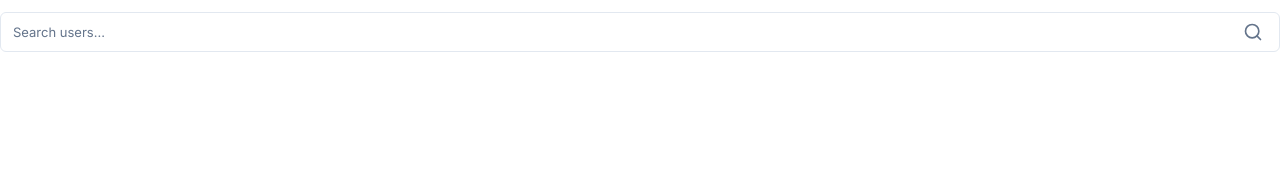
Test: UserLookup › matches every word across a user's name and profile
Type "user sales" into the dropdown named "New Owner" at point(622, 32), box [13, 14, 1231, 50]
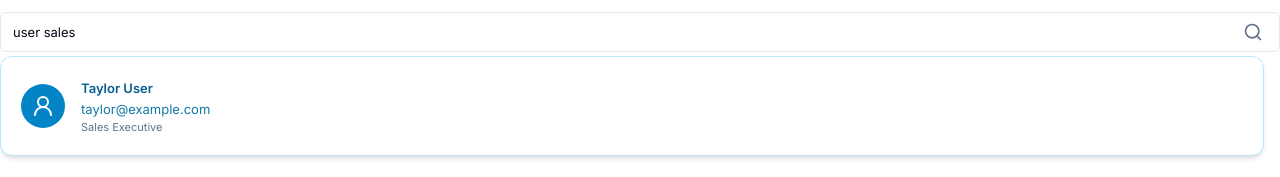
Now the option "Taylor User taylor@example.com Sales Executive" is shown, box [9, 65, 1255, 147]
Now the option "Grace Hopper" is gone
